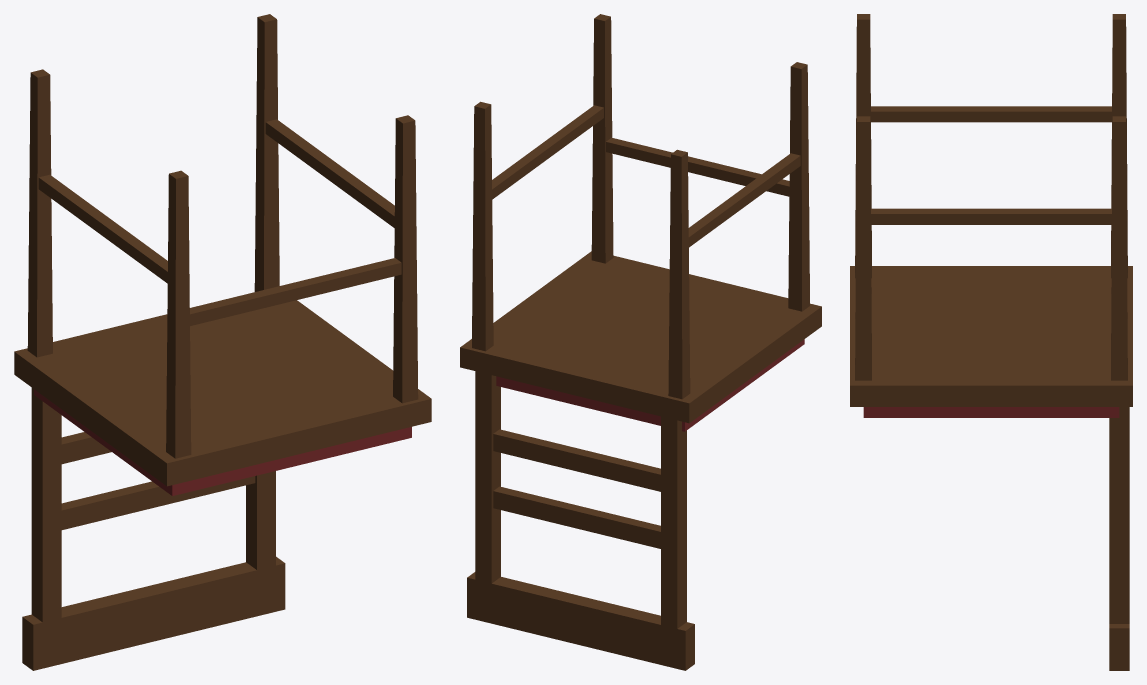
Rendered from chair.glb.
The picture shows the model from 3 angles, left to right: view 1: azimuth 30°, elevation 25°; view 2: azimuth 150°, elevation 25°; view 3: azimuth 270°, elevation 25°; orthographic projection. The views are drawn at different scales.
Visible parts, largest first — view 1: chair; view 2: chair; view 3: chair.
Part boxes in pixels (x1,y1,x2,y2): chair: [14, 14, 431, 670]; chair: [460, 14, 821, 670]; chair: [850, 14, 1132, 670].
Bounding box in the file's own units: 0.42 × 0.895 × 0.42.
